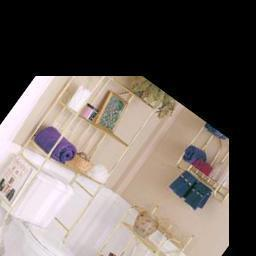Sanitario: (0, 155, 115, 256)
